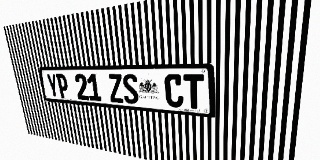1: (86, 74, 102, 101)
2: (74, 74, 89, 100)
C: (164, 74, 184, 108)
P: (56, 74, 70, 99)
S: (122, 74, 139, 104)
T: (183, 74, 204, 110)
Y: (46, 74, 60, 98)
Z: (107, 74, 124, 103)
